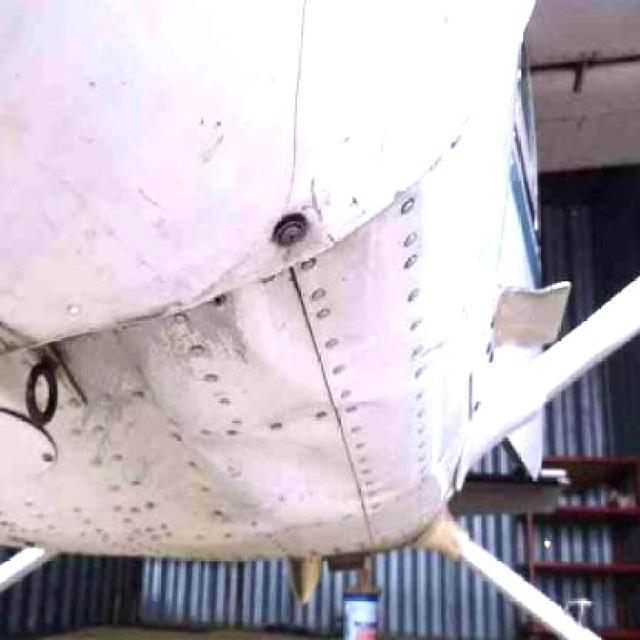dent: (218, 416, 351, 516), (240, 254, 331, 392)
